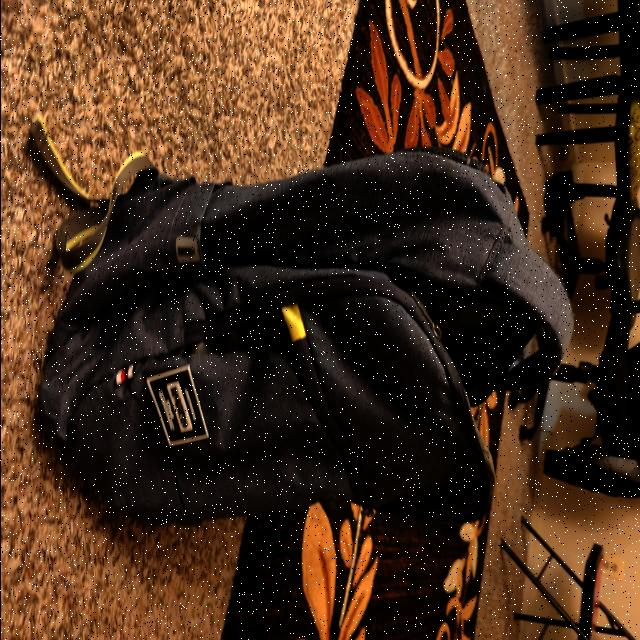bag: (46, 162, 574, 508)
